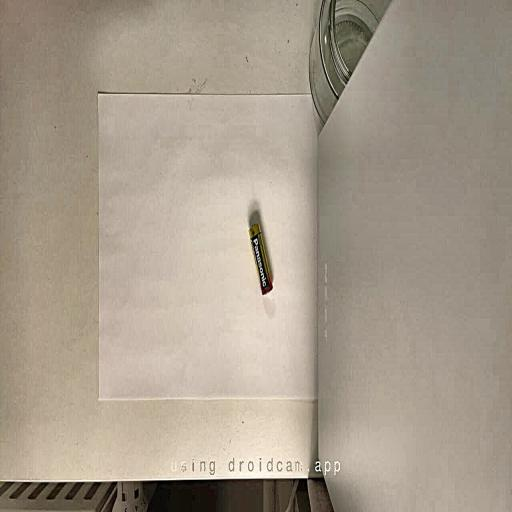PanasonicAA: (249, 223, 272, 294)
